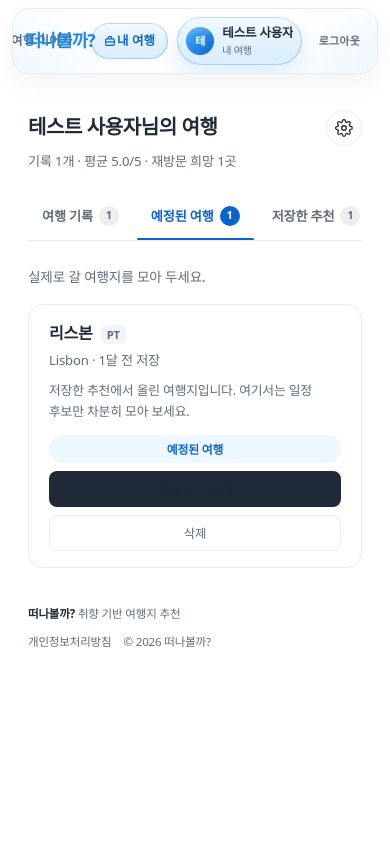
Test: AccountExperience future trips tab › deletes a planned snapshot from the future trips tab after confirmation
Click the button with test id "future-trip-delete-0".
click(195, 533)  # box x1=49 y1=515 x2=341 y2=551
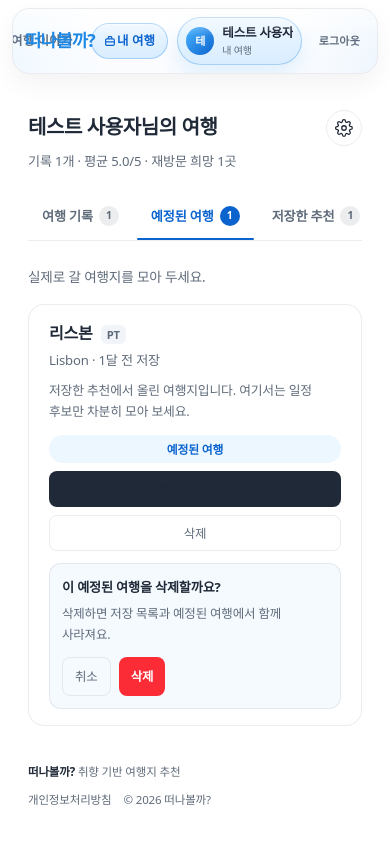
Expected: the element with test id "saved-delete-dialog-0" is shown, x1=49 y1=563 x2=341 y2=709
Click the button with test id "saved-delete-confirm-0".
click(142, 677)  # box x1=119 y1=657 x2=165 y2=696
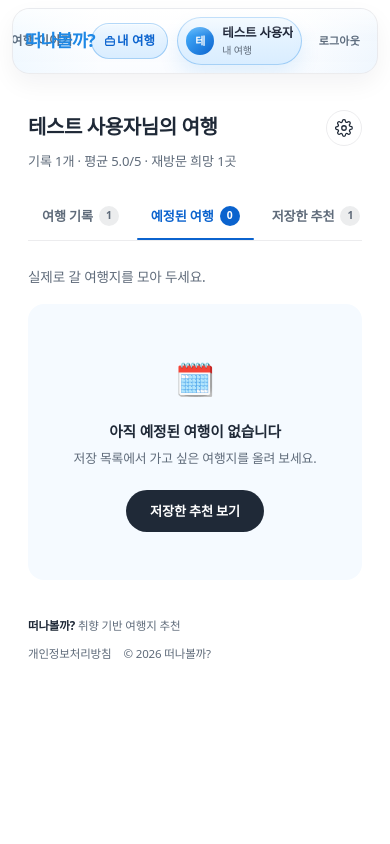
Expected: the element with test id "future-trip-entry-0" is gone
